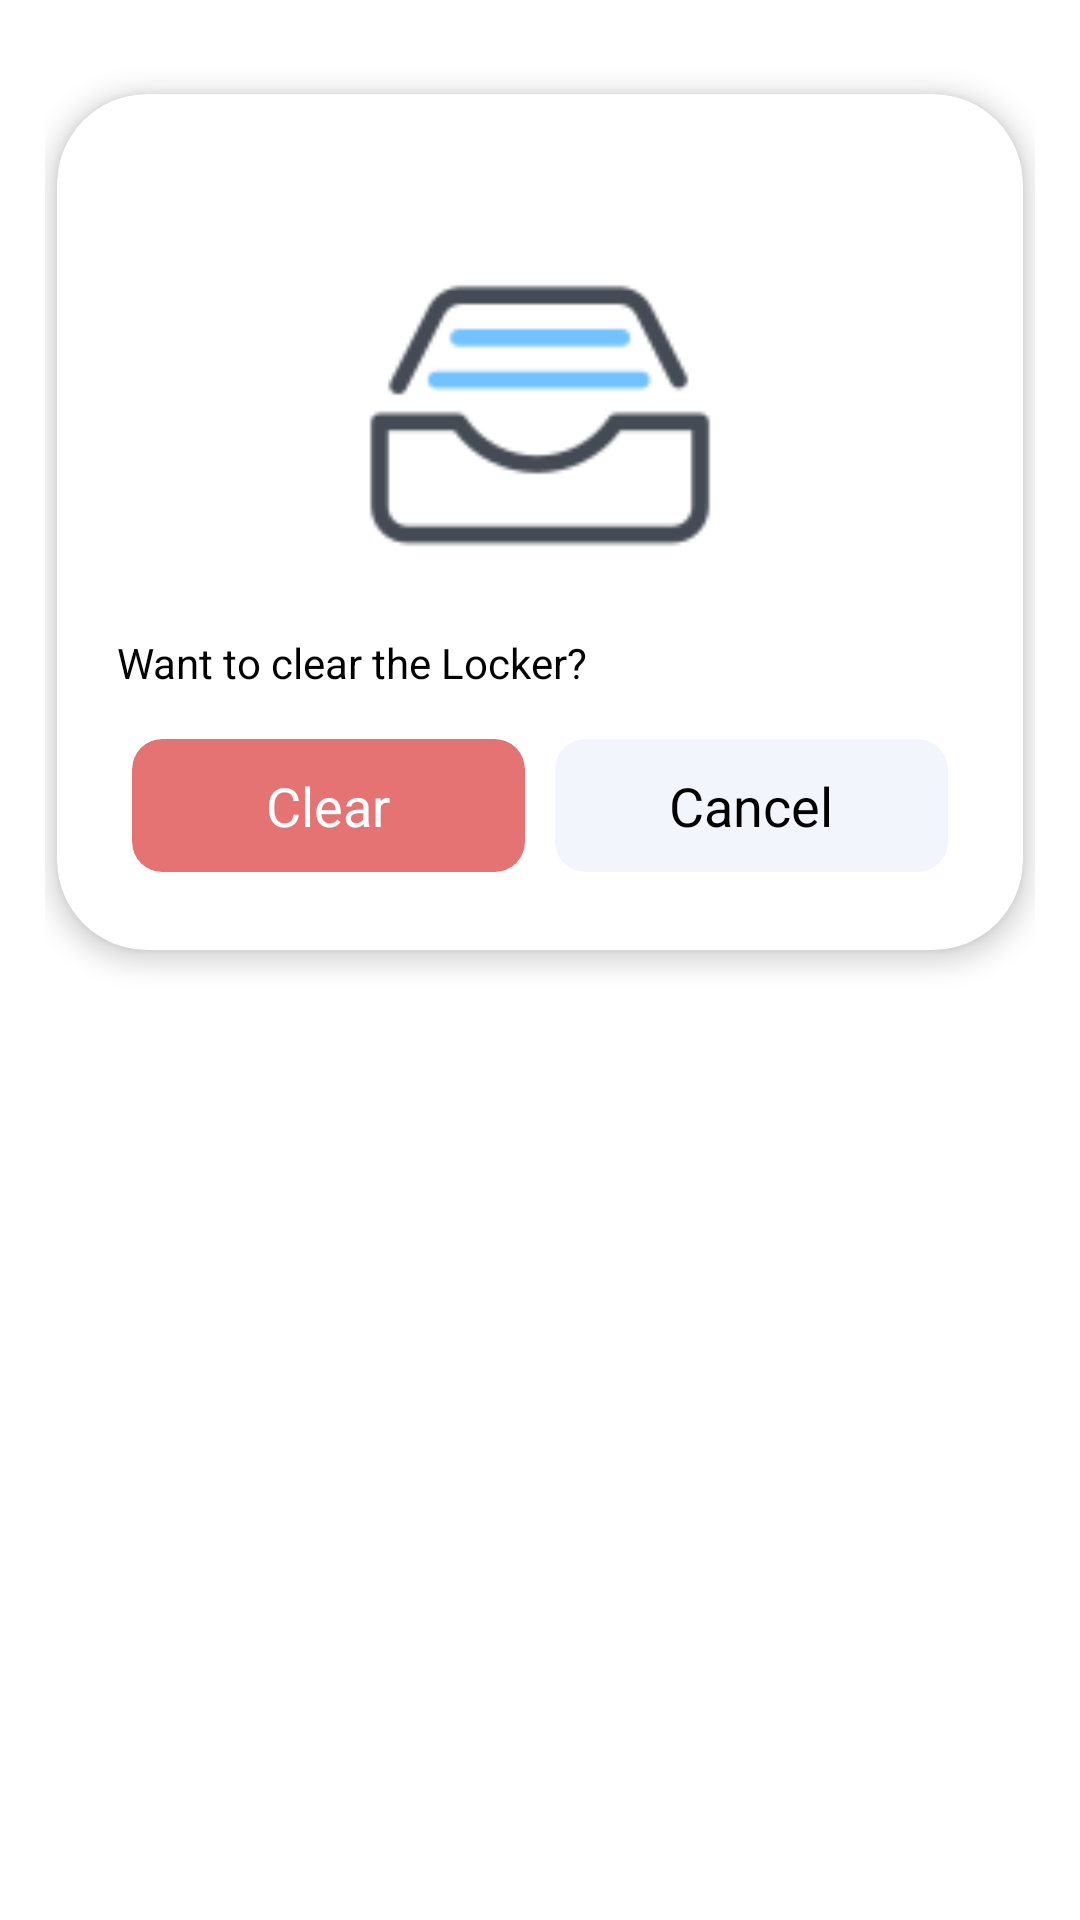

Locate icon controls on the screen. Image size 1080 × 1920, boxes as box=[x1, y1, x2, y2].
box: box=[370, 285, 710, 546]
